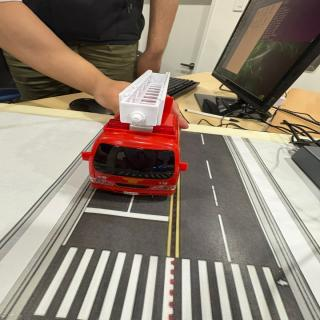Fire_truck: (82, 70, 188, 195)
